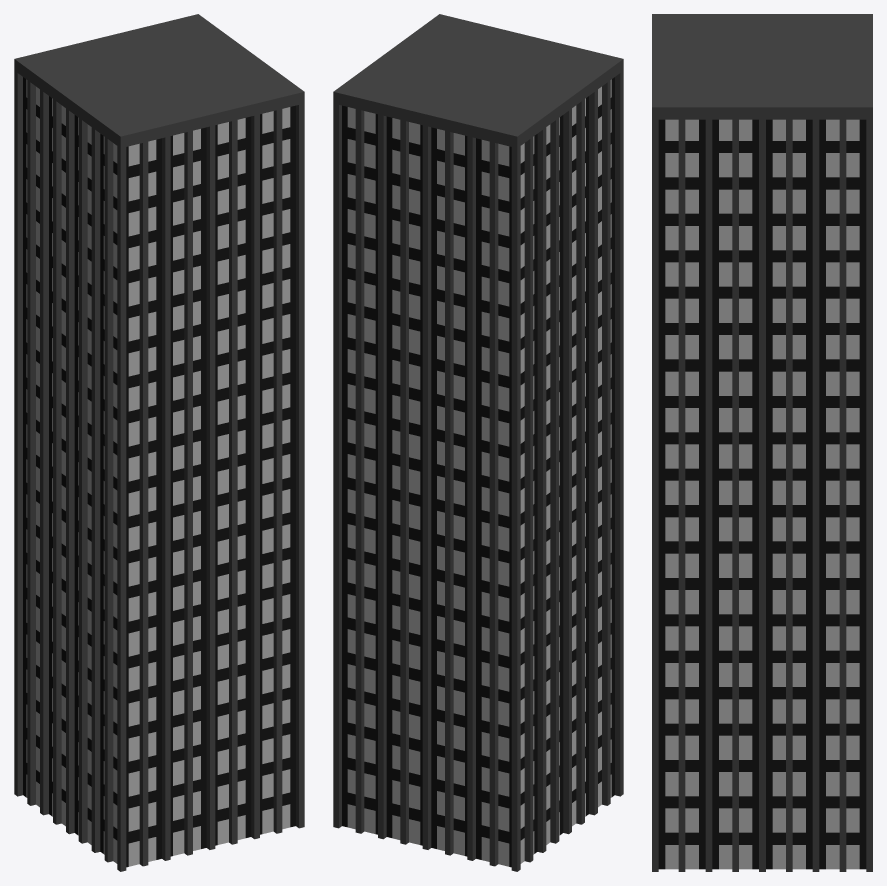
Rendered from TestTown2.obj.
The picture shows the model from 3 angles, left to right: view 1: azimuth 30°, elevation 25°; view 2: azimuth 150°, elevation 25°; view 3: azimuth 270°, elevation 25°; orthographic projection. The views are drawn at different scales.
Size of the model in its own units: 3.3 by 12.6 by 3.3.
1 material, 1 textured.
